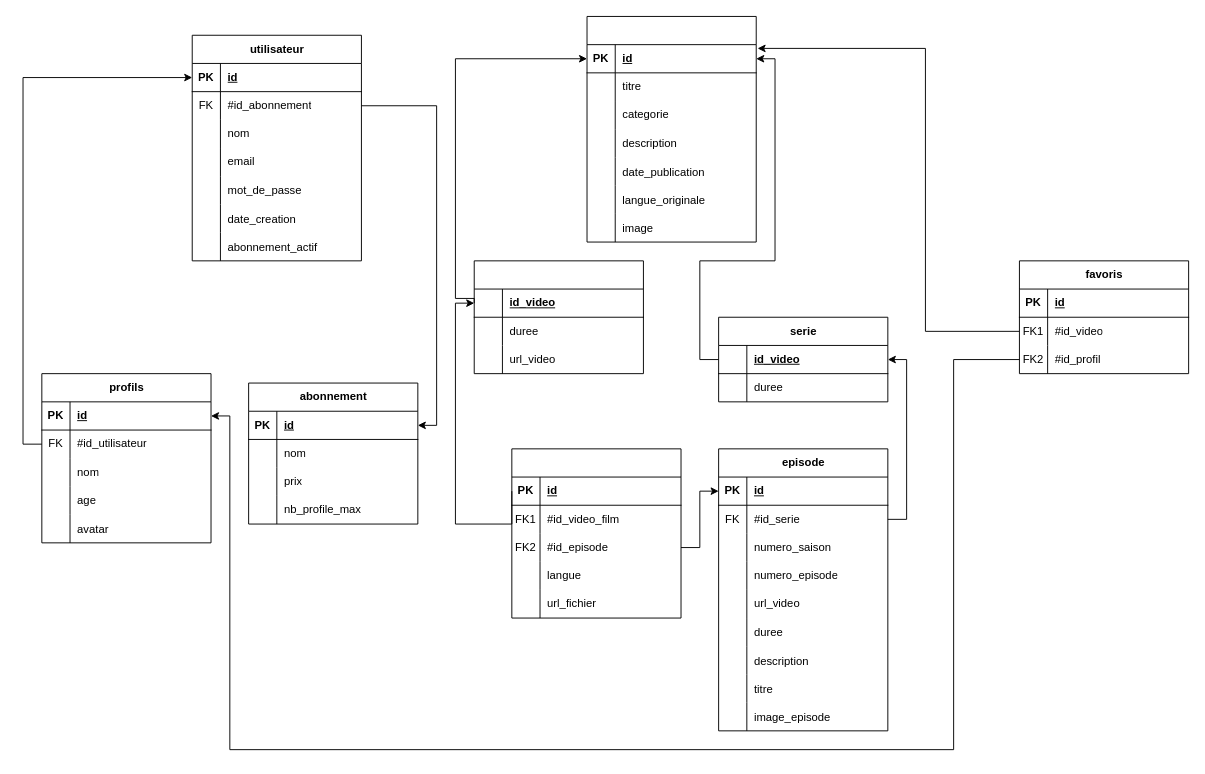
Some shapes in this 1205 by 774 pixel diagram are drawn without their labels. The box of each missing label's shape, as (x1, y1, x2, y2) in pixels:
film: (473, 260, 643, 374)
sous_titre: (511, 448, 681, 618)
Video: (586, 16, 756, 242)
